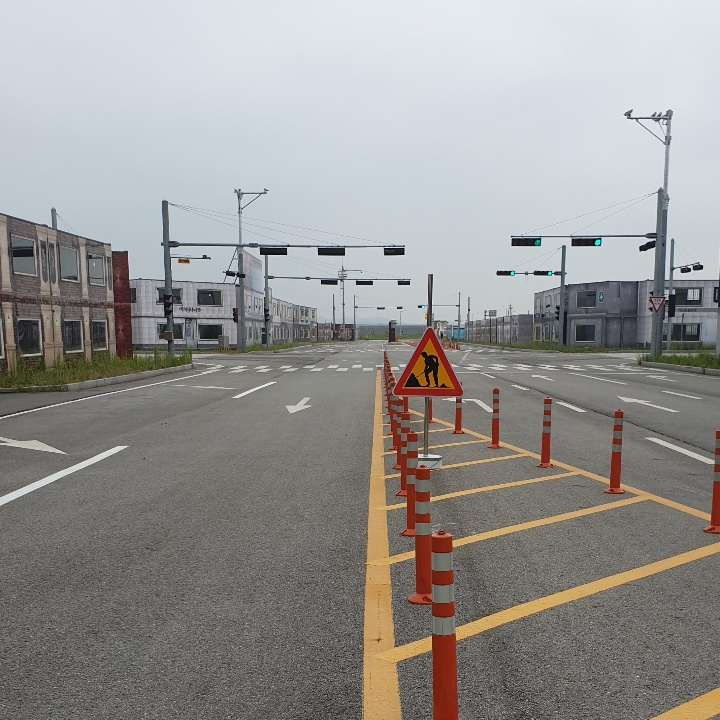const: (402, 344, 454, 392)
